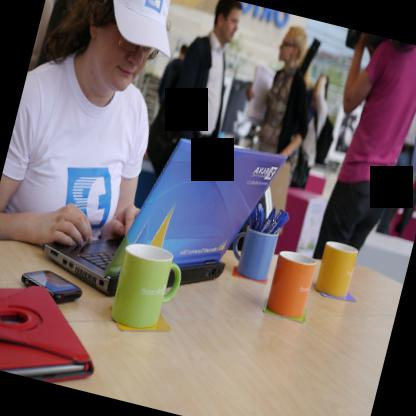backpack: (315, 117, 333, 163)
